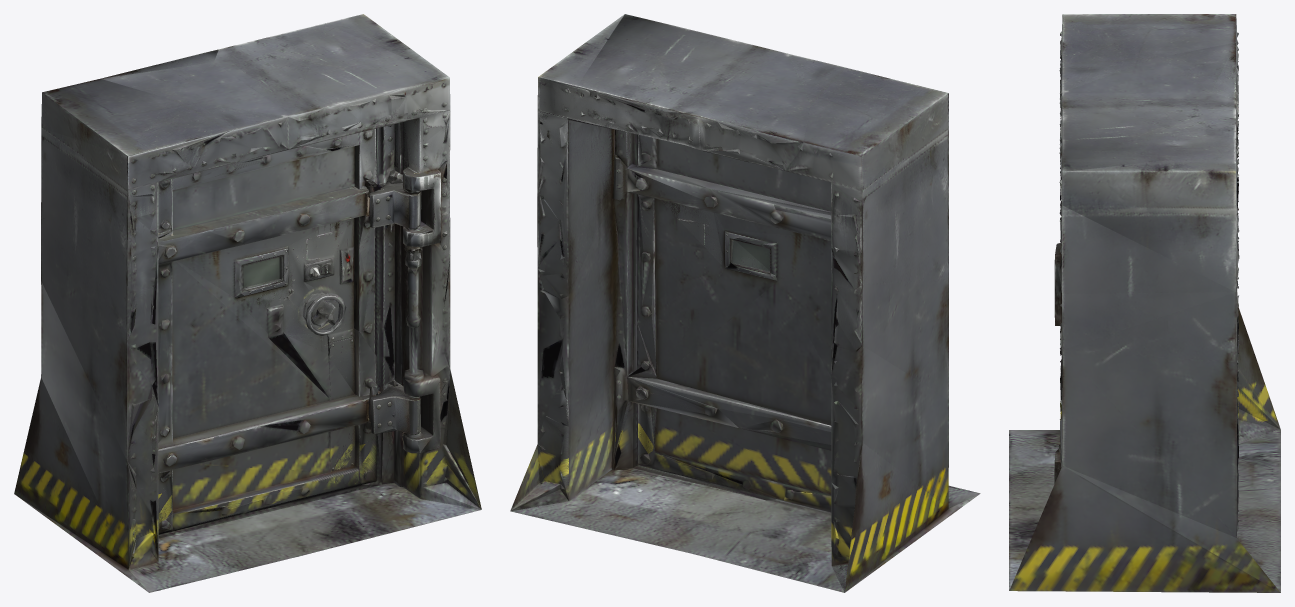
The model's file is PorteBlindee.fbx.
3 renders of one model, left to right at view 1: azimuth 30°, elevation 25°; view 2: azimuth 150°, elevation 25°; view 3: azimuth 270°, elevation 25°, orthographic.
Parts seen in each view (by area): view 1: Mesh_0; view 2: Mesh_0; view 3: Mesh_0.
Part boxes in pixels (<box>): Mesh_0: <box>14,14,481,592</box>; Mesh_0: <box>510,14,980,592</box>; Mesh_0: <box>1009,14,1280,592</box>.
Size of the model in its own units: 159 by 190 by 112.
1 material, 1 textured.
